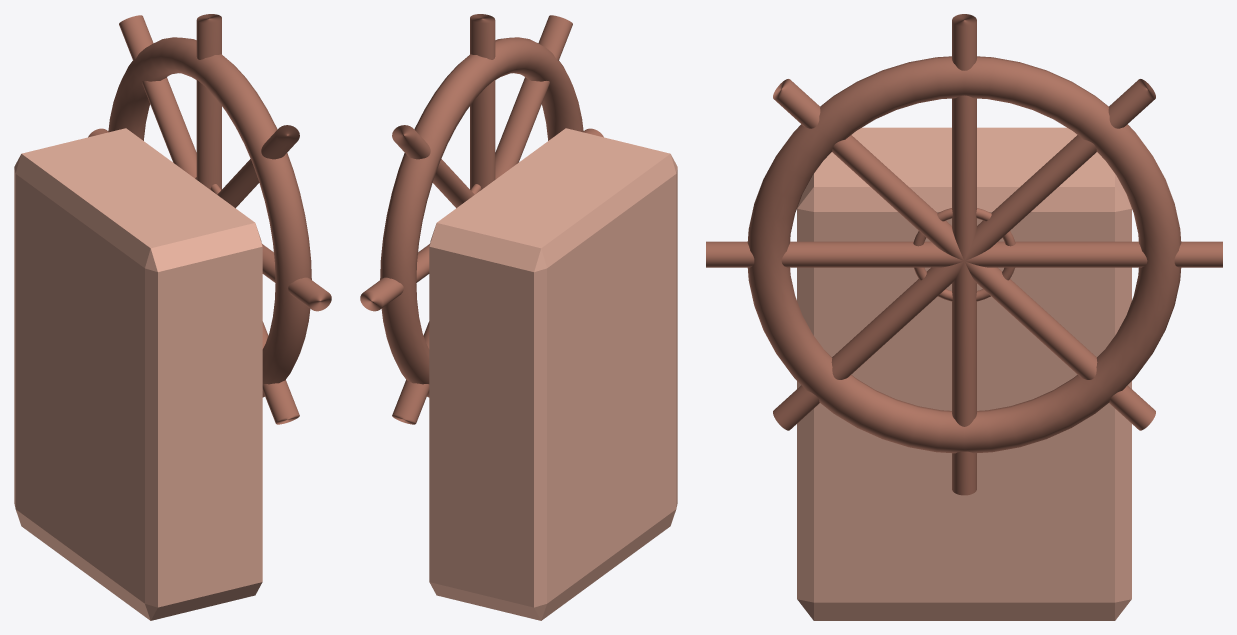
Rendered from Manibela.fbx.
3 views of the same model, side by side, from view 1: azimuth 30°, elevation 25°; view 2: azimuth 150°, elevation 25°; view 3: azimuth 270°, elevation 25° (orthographic). The views are drawn at different scales.
Parts seen in each view (by area): view 1: Cube, Torus, Cylinder.002, Cylinder, Cylinder.003, Cylinder.001; view 2: Cube, Torus, Cylinder.003, Cylinder, Cylinder.002, Cylinder.001; view 3: Cube, Torus, Cylinder.001, Cylinder.002, Cylinder.003, Cylinder, Torus.001.
Boxes of the visible parts, box(x1,y1,x2,y2) form: Cube: box(14, 128, 262, 620); Torus: box(108, 37, 311, 397); Cylinder.002: box(119, 15, 299, 424); Cylinder: box(196, 14, 221, 189); Cylinder.003: box(217, 125, 299, 208); Cylinder.001: box(88, 128, 331, 311); Cube: box(429, 128, 677, 620); Torus: box(380, 37, 583, 397); Cylinder.003: box(392, 15, 572, 424); Cylinder: box(470, 14, 495, 189); Cylinder.002: box(392, 125, 474, 208); Cylinder.001: box(360, 128, 603, 311); Cube: box(797, 127, 1131, 620); Torus: box(747, 56, 1181, 453); Cylinder.001: box(706, 241, 1222, 267); Cylinder.002: box(773, 79, 1155, 430); Cylinder.003: box(773, 79, 1155, 430); Cylinder: box(952, 14, 976, 495); Torus.001: box(913, 208, 1015, 301).
Bounding box in the file's own units: 101 × 350 × 268.
